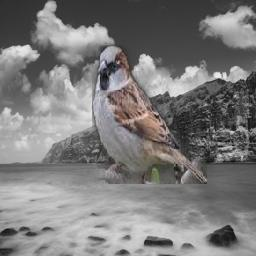Sparrow: (93, 46, 208, 185)
